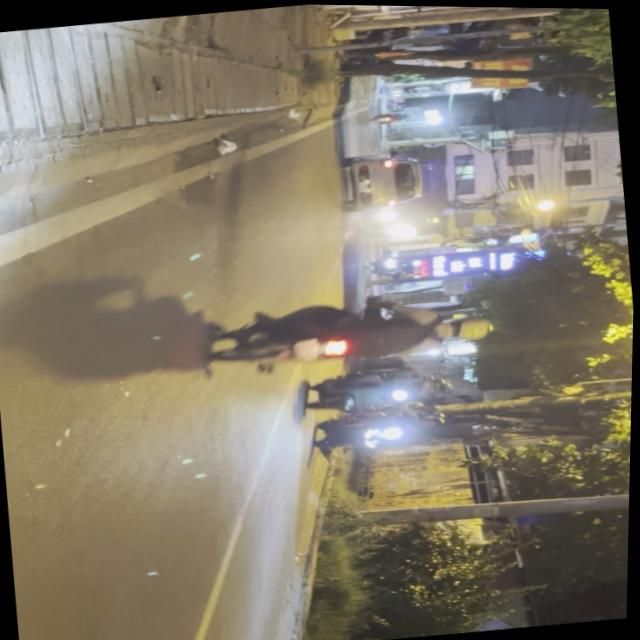helmet: (445, 312, 495, 343)
licenseplate: (206, 282, 499, 382)
nohelmet: (295, 338, 322, 362)
